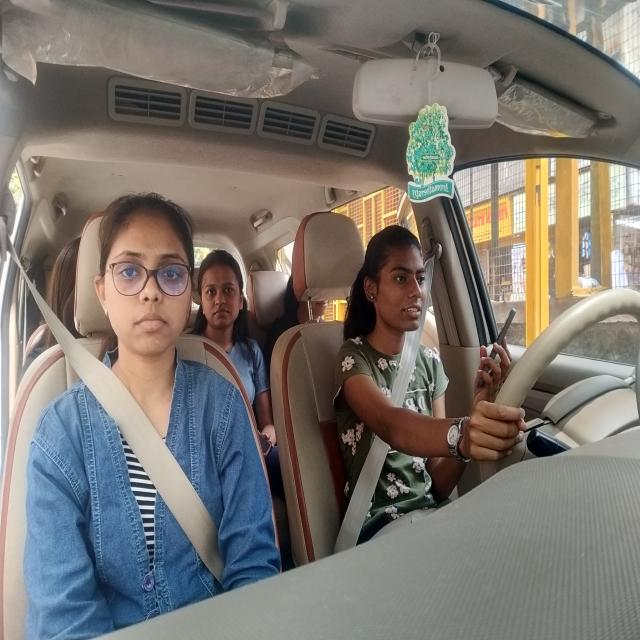mobile: (479, 299, 520, 394)
person: (96, 202, 189, 360), (363, 222, 431, 339), (202, 253, 241, 333), (291, 290, 333, 317)
